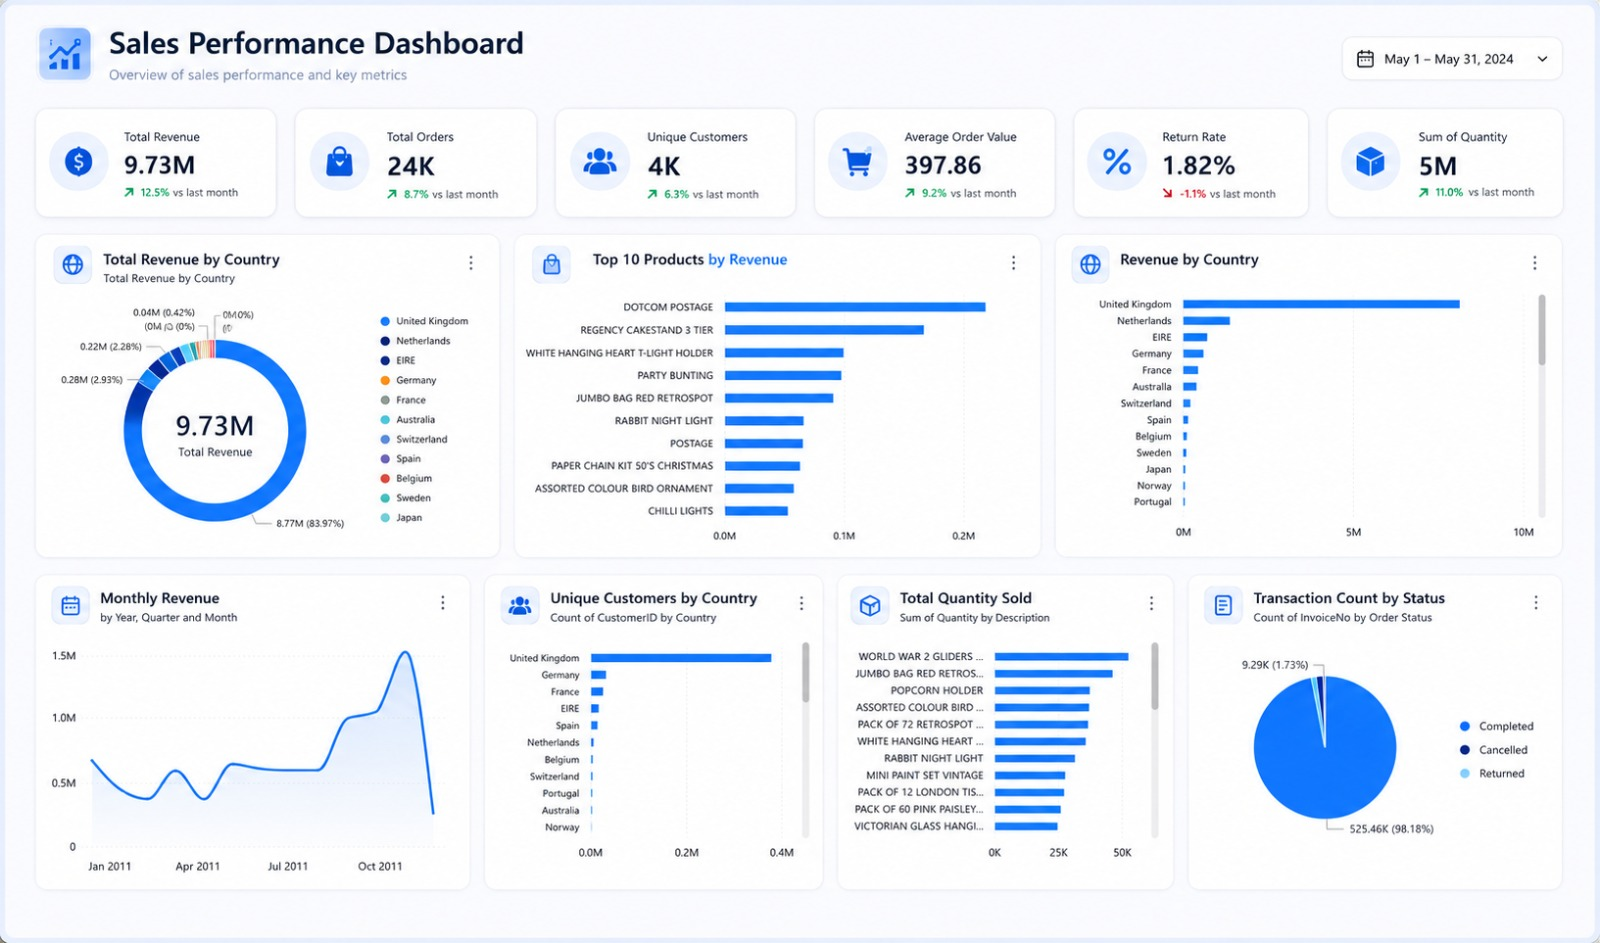

Layout of this report page (visuals, bound fields, positions):
{"tool":"powerbi","page":{"name":"Page 1","canvas":[1920,1080],"ordinal":0},"visuals":[{"type":"cardVisual","fields":{"Data":["Sheet1.Total Orders"]},"box":[332,108,280,106],"z":0},{"type":"cardVisual","fields":{"Data":["Sheet1.Unique Customers"]},"box":[654,108,280,106],"z":1000},{"type":"cardVisual","fields":{"Data":["Sheet1.Average Order Value"]},"box":[974,108,280,106],"z":2000},{"type":"lineChart","fields":{"Category":["Sheet1.Month.Variation.Date Hierarchy.Year","Sheet1.Month.Variation.Date Hierarchy.Quarter","Sheet1.Month.Variation.Date Hierarchy.Month","Sheet1.Month.Variation.Date Hierarchy.Day"],"Y":["Sheet1.Monthly Revenue"]},"box":[12,674,566,376],"z":3000},{"type":"clusteredBarChart","title":"Revenue by Country","fields":{"Category":["Sheet1.Country"],"Y":["Sheet1.Total Revenue"]},"box":[1294,240,602,416],"z":4000},{"type":"clusteredBarChart","title":"Top 10 Products by Revenue","fields":{"Category":["Sheet1.Description"],"Y":["Sheet1.Total Revenue"]},"box":[600,240,680,416],"z":5000},{"type":"donutChart","title":"Total Revenue by Country","fields":{"Category":["Sheet1.Country"],"Y":["Sheet1.Total Revenue"]},"box":[12,240,566,416],"z":6000},{"type":"textbox","box":[10,0,566,66],"z":7000},{"type":"textbox","box":[10,48,374,34],"z":8000},{"type":"cardVisual","fields":{"Data":["Sheet1.Total Revenue"]},"box":[10,110,280.5,106.8],"z":9000},{"type":"cardVisual","fields":{"Data":["Sheet1.Return Rate"]},"box":[1294,108,280.5,106.8],"z":10000},{"type":"pieChart","title":"Transaction Count by Status","fields":{"Category":["Sheet1.Order Status"],"Y":["CountNonNull(Sheet1.InvoiceNo)"]},"box":[1518,674,364,376],"z":11000},{"type":"cardVisual","fields":{"Data":["Sum(Sheet1.Quantity)"]},"box":[1616,108,280,106],"z":12000},{"type":"clusteredBarChart","title":"Unique Customers by Country","fields":{"Category":["Sheet1.Country"],"Y":["CountNonNull(Sheet1.CustomerID)"]},"box":[600,674,490,376],"z":13000},{"type":"clusteredBarChart","title":"Total Quantity Sold","fields":{"Category":["Sheet1.Description"],"Y":["Sum(Sheet1.Quantity)"]},"box":[1106,674,398,376],"z":13001}]}

Visuals, with their boxes on the page's 1920x1080 design canvas (x1, y1, x2, y2). These are canvas units, not pixel positions in the 1600x943 screenshot, which may show the page scaled, cropped or inside an application window:
cardVisual - Sheet1.Total Orders: bbox=(332, 108, 612, 214)
cardVisual - Sheet1.Unique Customers: bbox=(654, 108, 934, 214)
cardVisual - Sheet1.Average Order Value: bbox=(974, 108, 1254, 214)
lineChart - Sheet1.Month.Variation.Date Hierarchy.Year x Sheet1.Month.Variation.Date Hierarchy.Quarter: bbox=(12, 674, 578, 1050)
"Revenue by Country" clusteredBarChart: bbox=(1294, 240, 1896, 656)
"Top 10 Products by Revenue" clusteredBarChart: bbox=(600, 240, 1280, 656)
"Total Revenue by Country" donutChart: bbox=(12, 240, 578, 656)
textbox: bbox=(10, 0, 576, 66)
textbox: bbox=(10, 48, 384, 82)
cardVisual - Sheet1.Total Revenue: bbox=(10, 110, 290, 217)
cardVisual - Sheet1.Return Rate: bbox=(1294, 108, 1574, 215)
"Transaction Count by Status" pieChart: bbox=(1518, 674, 1882, 1050)
cardVisual - Sum(Sheet1.Quantity): bbox=(1616, 108, 1896, 214)
"Unique Customers by Country" clusteredBarChart: bbox=(600, 674, 1090, 1050)
"Total Quantity Sold" clusteredBarChart: bbox=(1106, 674, 1504, 1050)
